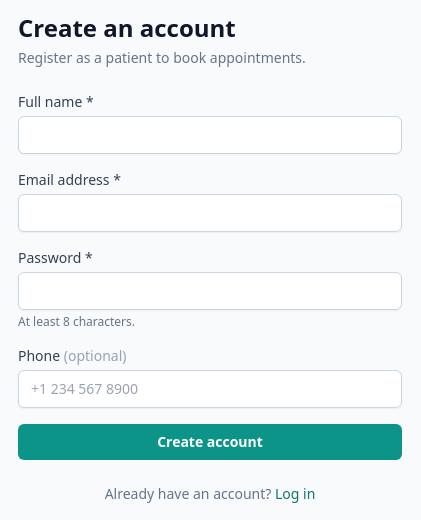
Test case: RegisterPage › submits registration form and succeeds
The image size is (421, 520).
Type "New Patient" into the field labelled "Full name *" at (210, 135), box [18, 116, 402, 154]
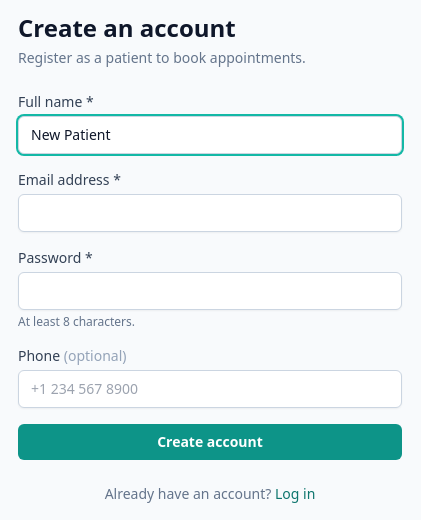
Type "newuser@example.com" into the field labelled "Email address *" at (210, 213), box [18, 194, 402, 232]
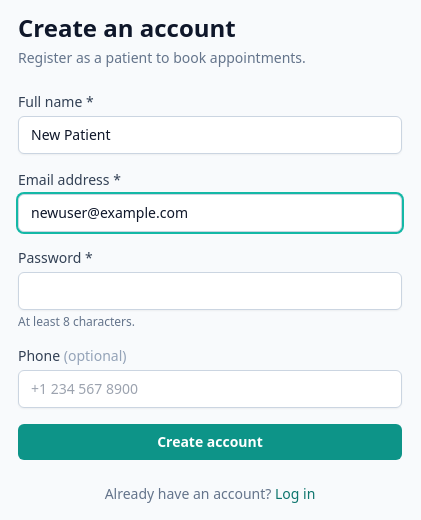
Type "securePassword123" into the password field labelled "Password *" at (210, 291), box [18, 272, 402, 310]
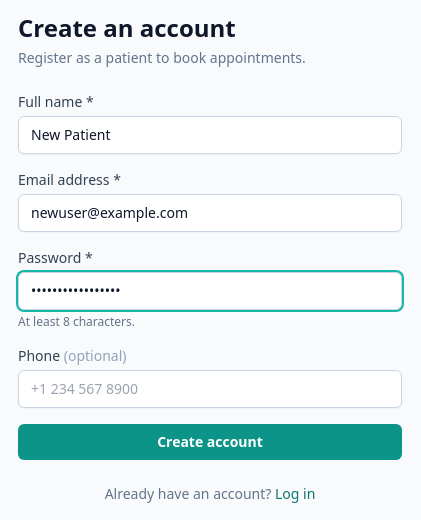
Click the button "Create account" at (210, 442), box [18, 424, 402, 460]
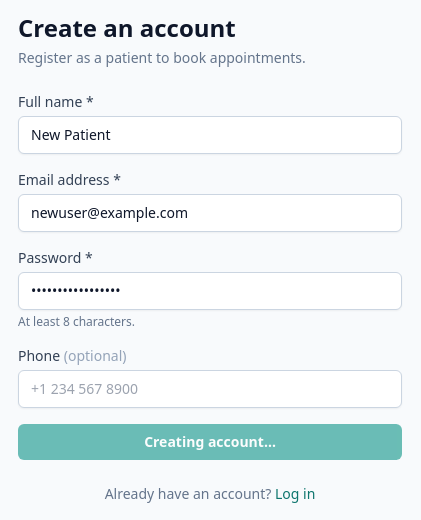
Now the button "Creating account…" is shown, box [18, 424, 402, 460]
